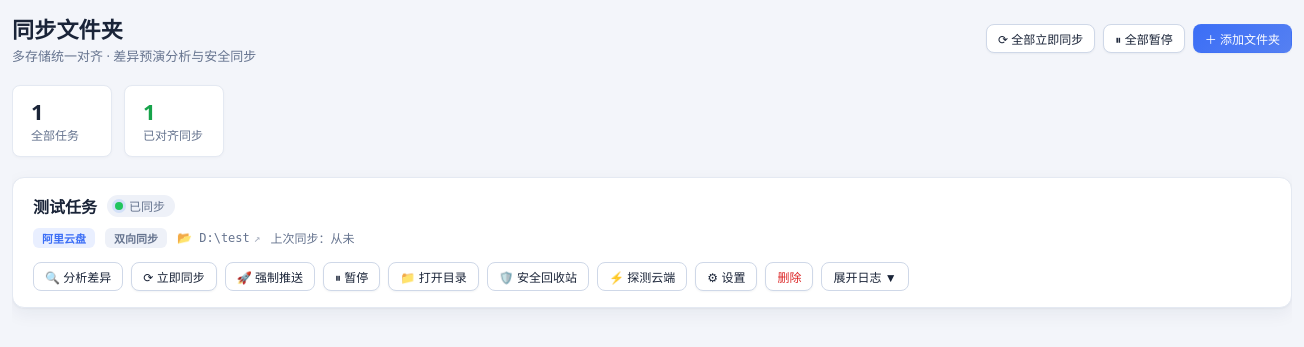
Test case: manual sync reports rejected command
Step 1. Click the button titled "强制拉取远端元数据执行完整三方对比与同步" → (174, 277), box [131,262,217,291]
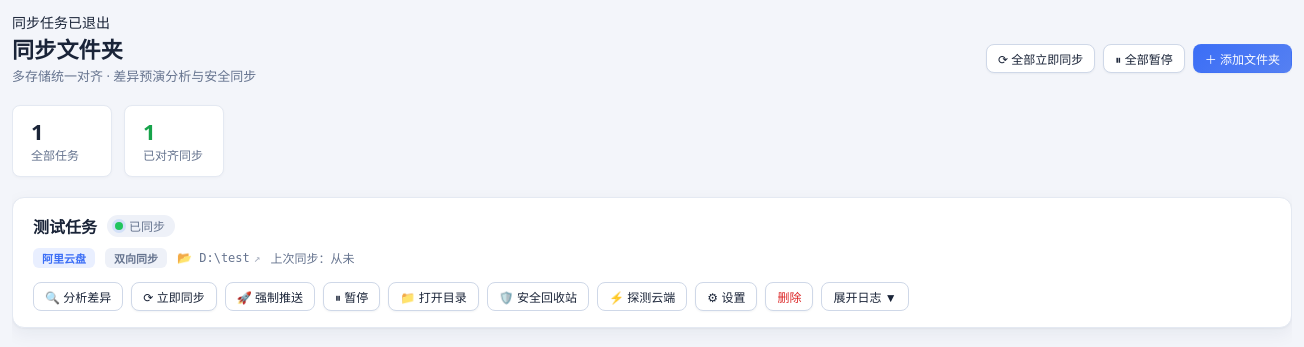
Now the message reads "同步任务已退出", box [12,13,110,32]
